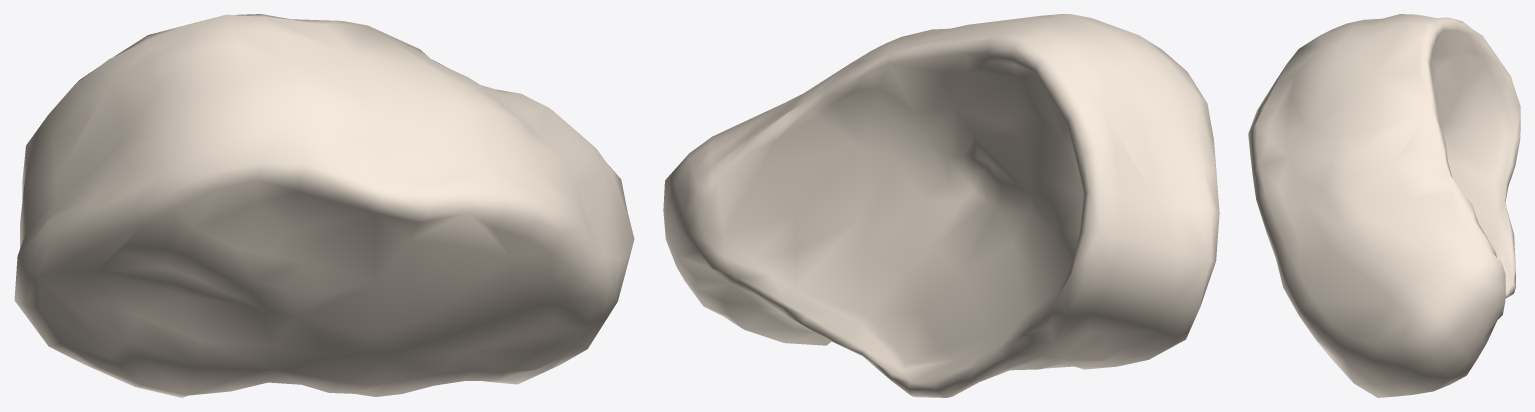
Rendered from right_navicular.glb.
3 views of the same model, side by side, from view 1: azimuth 30°, elevation 25°; view 2: azimuth 150°, elevation 25°; view 3: azimuth 270°, elevation 25° (orthographic). The views are drawn at different scales.
Parts seen in each view (by area): view 1: Navicular bone.r; view 2: Navicular bone.r; view 3: Navicular bone.r.
Boxes of the visible parts, left/top/right/bottom form: Navicular bone.r: left=14, top=14, right=634, bottom=397; Navicular bone.r: left=663, top=14, right=1219, bottom=397; Navicular bone.r: left=1248, top=14, right=1520, bottom=397.
Bounding box in the file's own units: 0.0414 × 0.027 × 0.0236.
